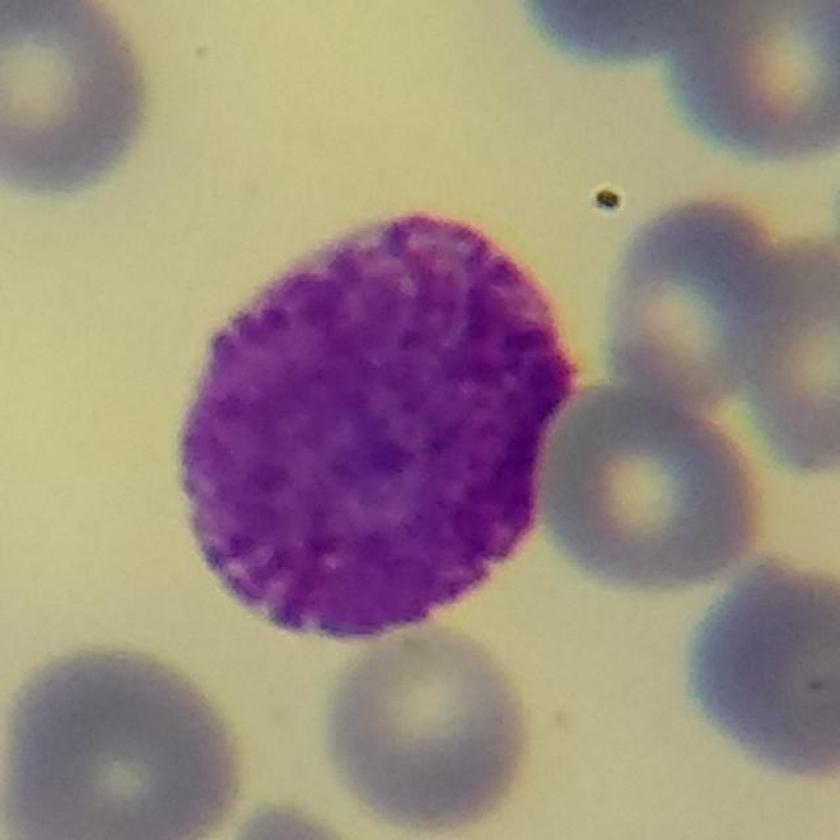basophil: (176, 201, 585, 648)
